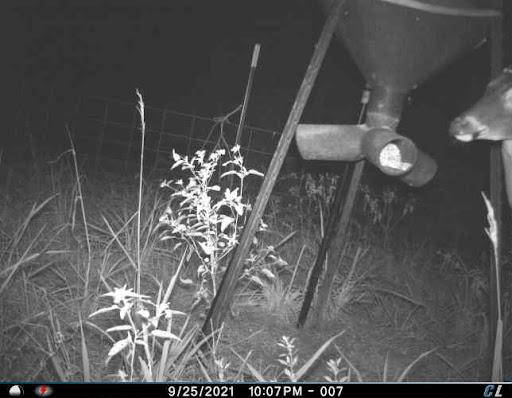Deer: (443, 54, 512, 216)
